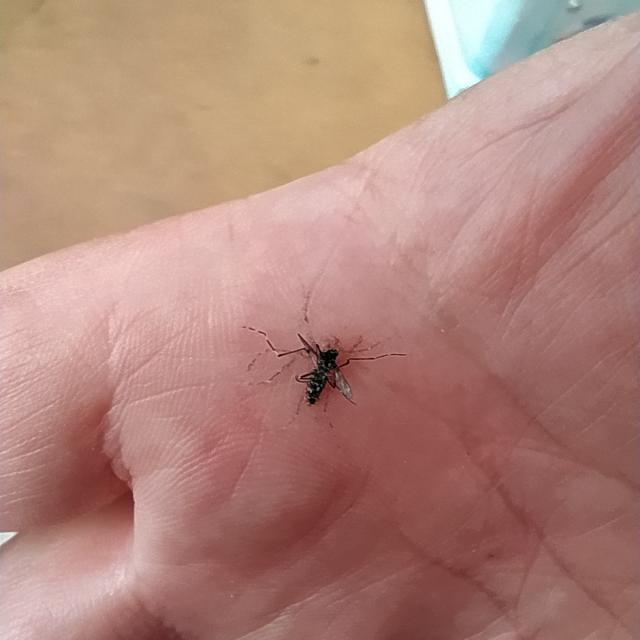albopictus: (239, 298, 409, 427)
